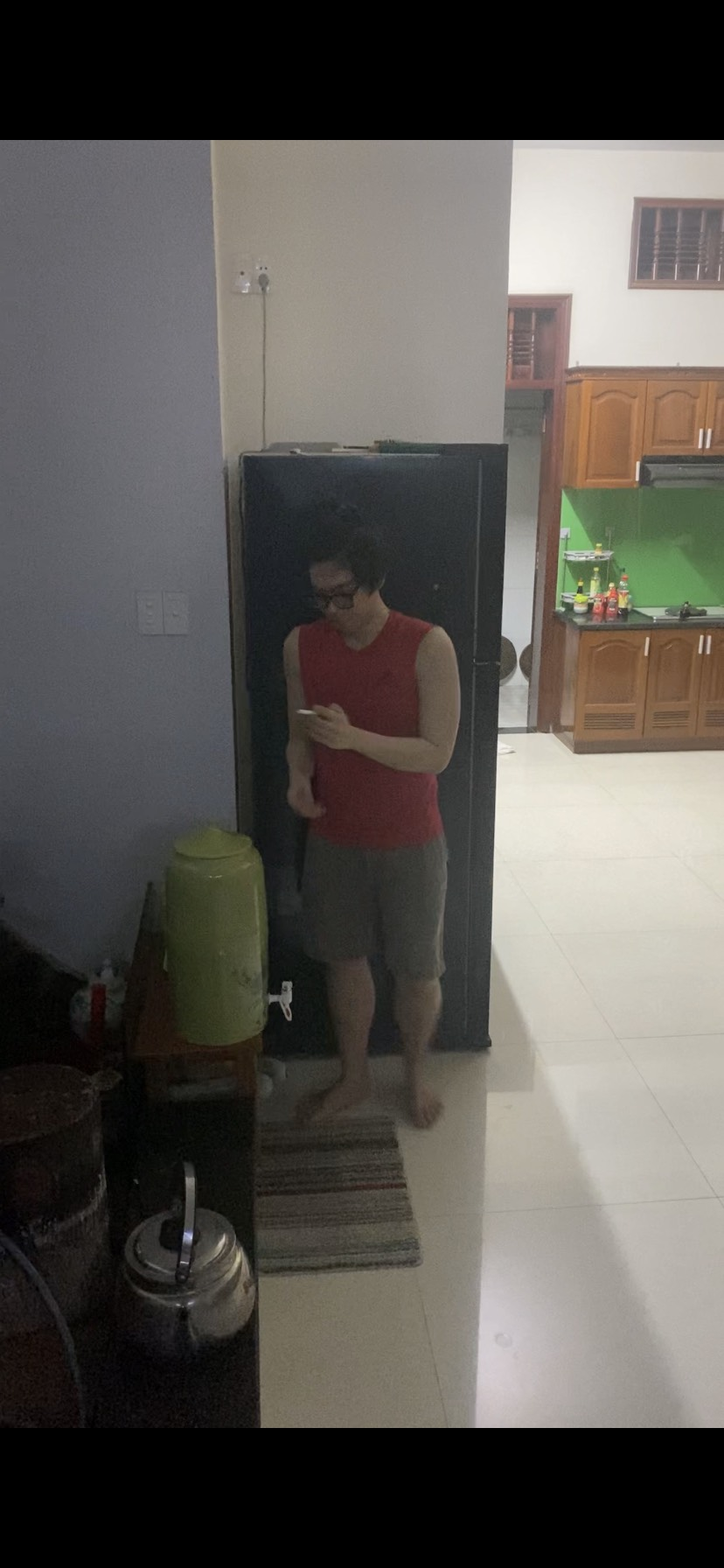cigarette: (293, 705, 317, 718)
person: (275, 479, 470, 1139)
